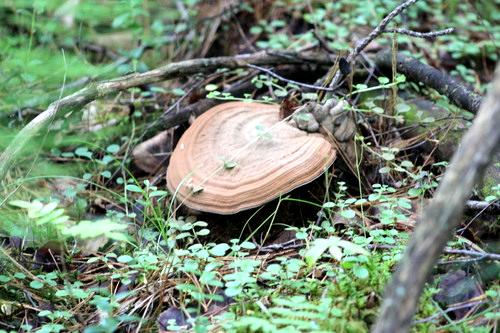Ganoderma - Fruit Body: (168, 99, 337, 216)
